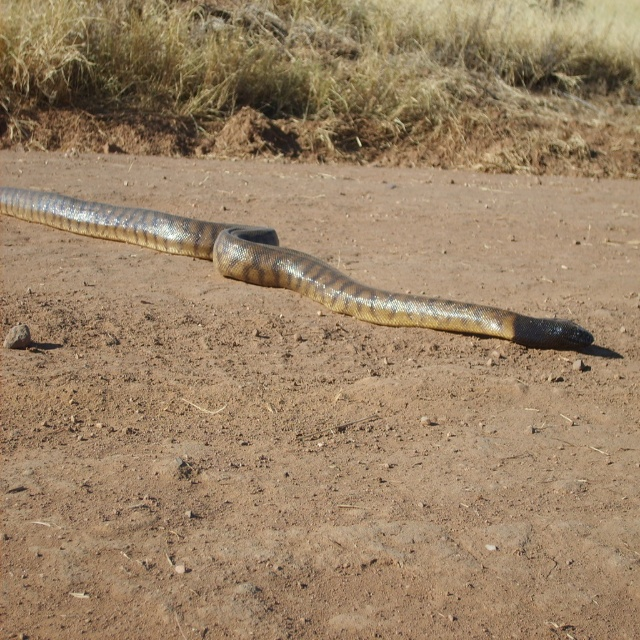Snake: (0, 182, 595, 347)
